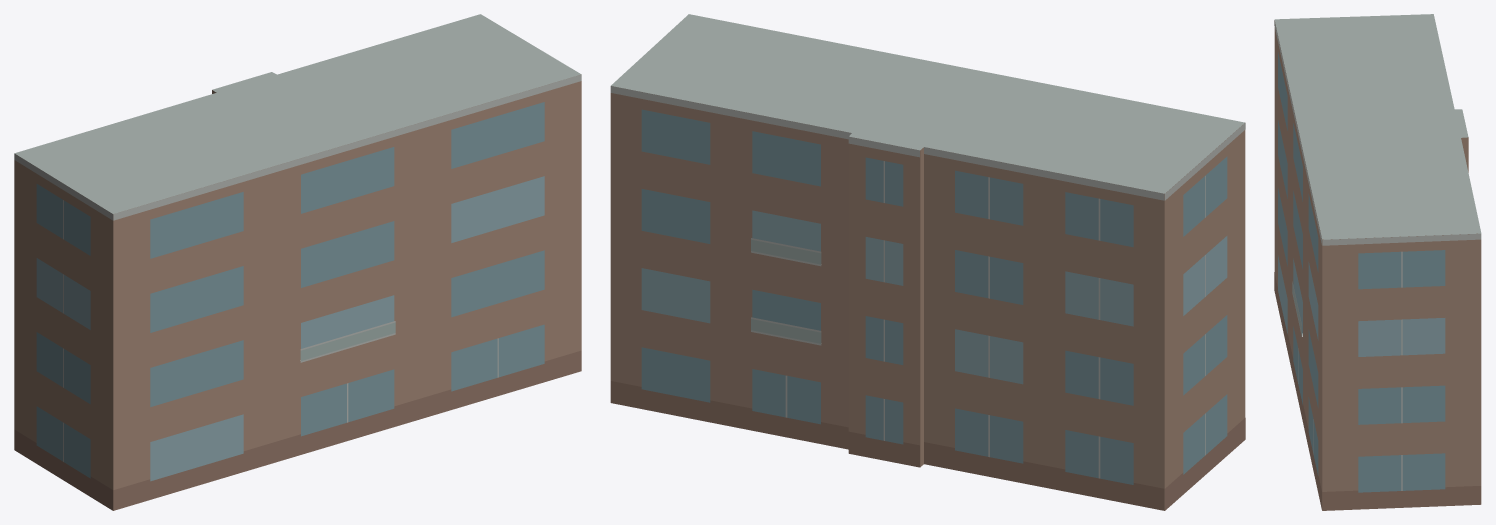
File: survey-upis-32607995.glb
3 renders of one model, left to right at view 1: azimuth 30°, elevation 25°; view 2: azimuth 150°, elevation 25°; view 3: azimuth 270°, elevation 25°, orthographic. The views are drawn at different scales.
Visible parts, largest first — view 1: survey-upis-32607995.tmp; view 2: survey-upis-32607995.tmp; view 3: survey-upis-32607995.tmp.
Boxes of the visible parts, <box> form: survey-upis-32607995.tmp: <box>14,14,581,510</box>; survey-upis-32607995.tmp: <box>610,14,1245,510</box>; survey-upis-32607995.tmp: <box>1274,14,1481,510</box>.
Size of the model in its own units: 19.75 by 11.05 by 7.66.
